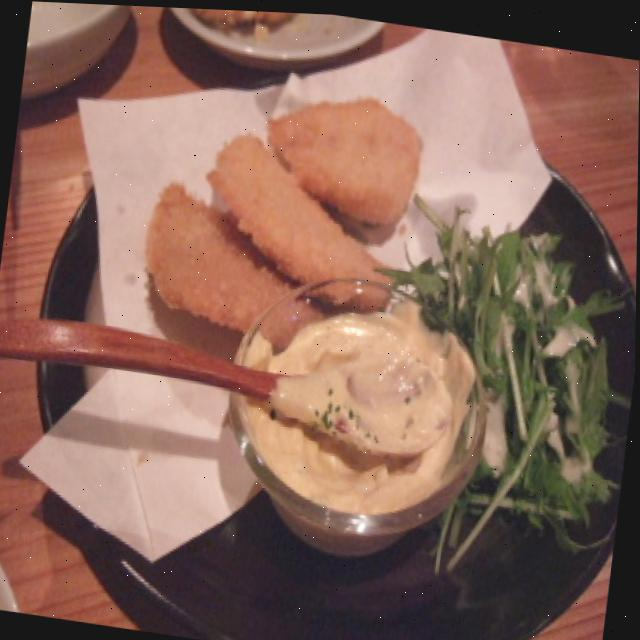炸货点心: (123, 38, 439, 350)
熟制海鲜: (123, 38, 439, 350)
